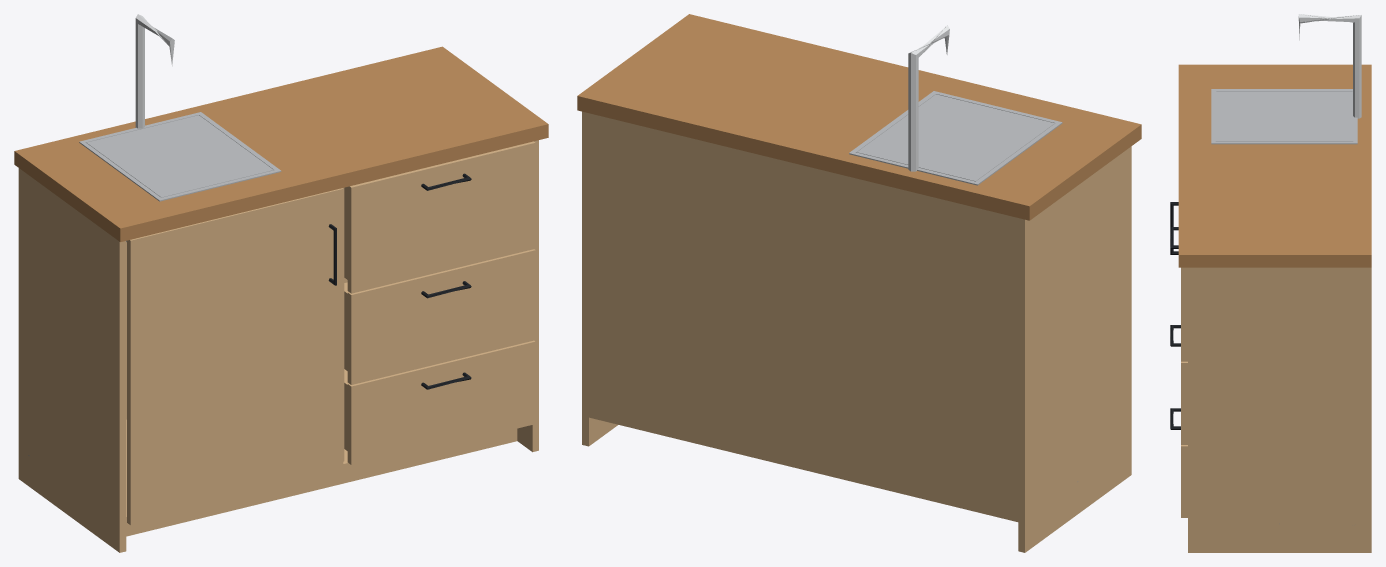
The model's file is van_galley.mid.glb.
3 renders of one model, left to right at view 1: azimuth 30°, elevation 25°; view 2: azimuth 150°, elevation 25°; view 3: azimuth 270°, elevation 25°, orthographic. The views are drawn at different scales.
Visible parts, largest first — view 1: van_galley, door, drawer_3, drawer_2, drawer_1, faucet; view 2: van_galley, faucet; view 3: van_galley, faucet, drawer_3, drawer_2, drawer_1.
Part boxes in pixels (x1,y1,x2,y2): van_galley: (14, 46, 548, 552); door: (127, 188, 343, 525); drawer_3: (344, 141, 535, 293); drawer_2: (344, 249, 535, 384); drawer_1: (344, 340, 535, 464); faucet: (135, 14, 174, 128); van_galley: (577, 14, 1141, 552); faucet: (908, 25, 949, 171); van_galley: (1178, 64, 1371, 552); faucet: (1298, 14, 1361, 118); drawer_3: (1170, 227, 1187, 361); drawer_2: (1170, 325, 1187, 444); drawer_1: (1170, 408, 1187, 517).
Size of the model in its own units: 1.24 by 1.23 by 0.5571.
